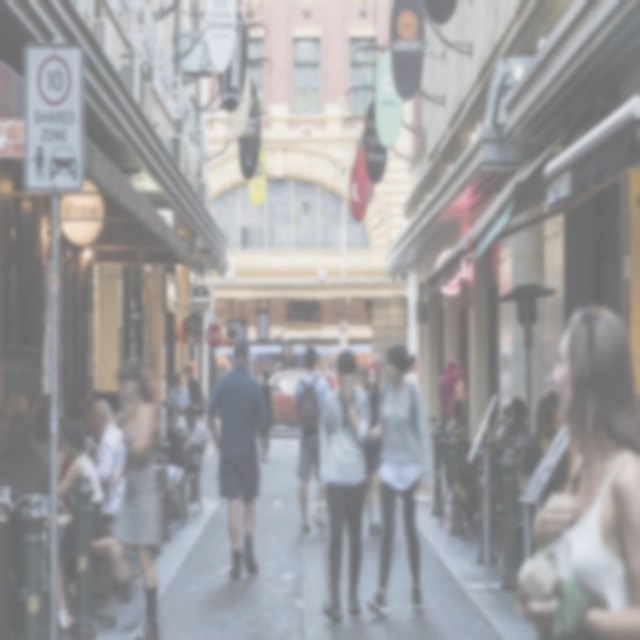pessoa: (516, 303, 640, 639), (360, 338, 436, 619), (312, 345, 378, 626), (104, 356, 164, 639), (206, 332, 266, 580), (56, 420, 105, 604), (289, 343, 334, 539), (519, 396, 572, 509), (89, 398, 130, 528), (359, 360, 386, 540), (258, 368, 282, 464), (497, 396, 533, 455), (182, 402, 208, 473), (438, 356, 465, 424), (48, 561, 70, 631), (497, 395, 526, 448), (183, 362, 202, 422), (168, 370, 192, 416), (446, 396, 468, 446), (28, 397, 50, 443), (546, 388, 564, 428), (7, 392, 29, 417), (54, 416, 64, 460), (10, 389, 26, 416), (454, 360, 464, 400), (85, 422, 94, 460), (0, 407, 9, 444), (408, 353, 419, 374), (250, 364, 263, 376), (266, 362, 274, 380), (276, 364, 280, 372)
